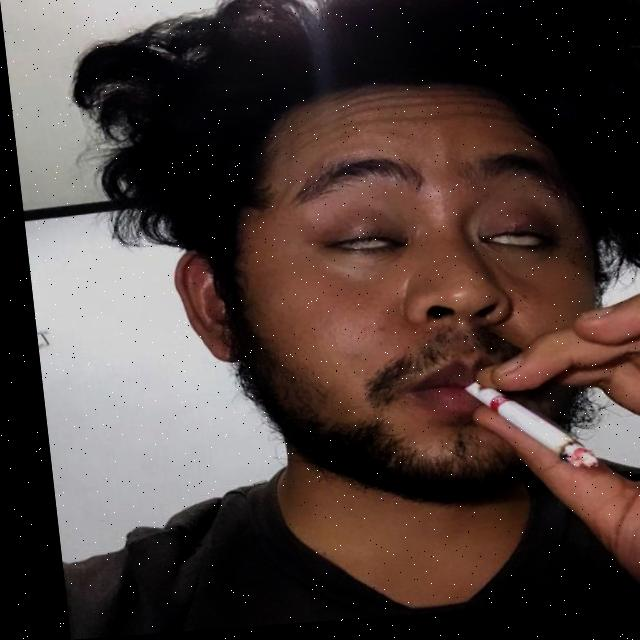cigarette: (453, 382, 583, 482)
